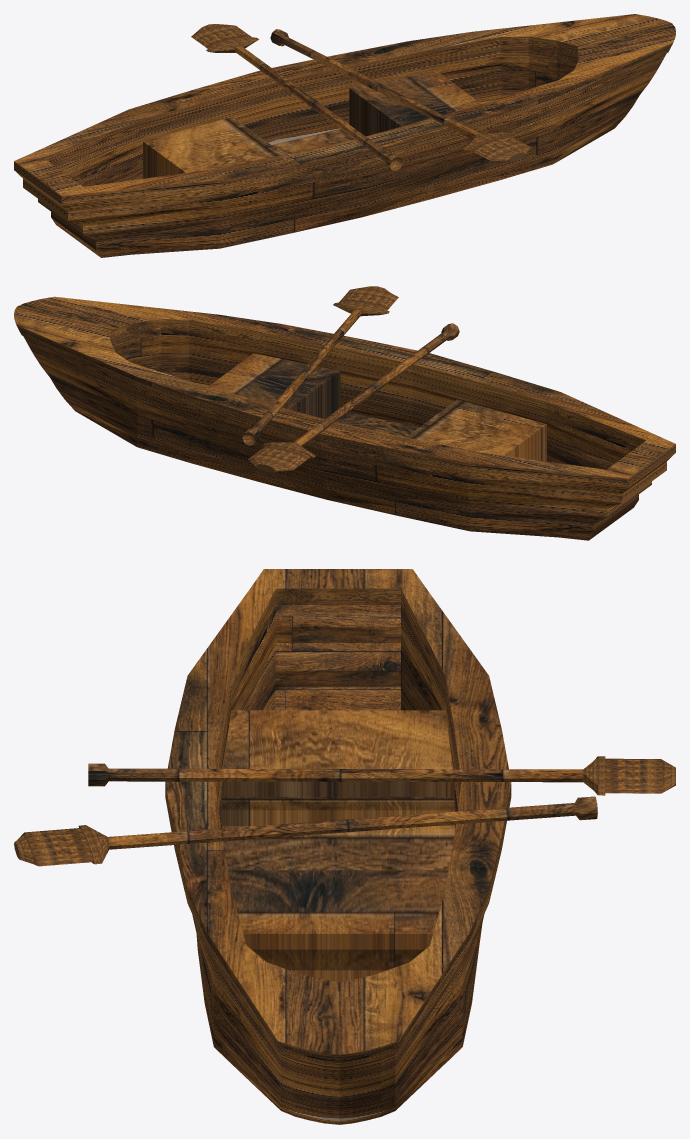
File: BoteT.fbx
The picture shows the model from 3 angles, top to bottom: view 1: azimuth 30°, elevation 25°; view 2: azimuth 150°, elevation 25°; view 3: azimuth 270°, elevation 25°; orthographic projection. The views are drawn at different scales.
Parts seen in each view (by area): view 1: pCube1, pCylinder2, pCylinder1; view 2: pCube1, pCylinder1, pCylinder2; view 3: pCube1, pCylinder2, pCylinder1.
Boxes of the visible parts, left/top/right/bottom form: pCube1: left=14, top=14, right=675, bottom=257; pCylinder2: left=270, top=29, right=530, bottom=161; pCylinder1: left=191, top=24, right=402, bottom=170; pCube1: left=14, top=296, right=675, bottom=540; pCylinder1: left=248, top=323, right=459, bottom=472; pCylinder2: left=242, top=286, right=398, bottom=445; pCube1: left=165, top=569, right=511, bottom=1124; pCylinder2: left=14, top=796, right=597, bottom=866; pCylinder1: left=88, top=756, right=675, bottom=795.
Bounding box in the file's own units: 45.54 × 5.8 × 26.23.
Materials: 1 (1 with a texture image).
